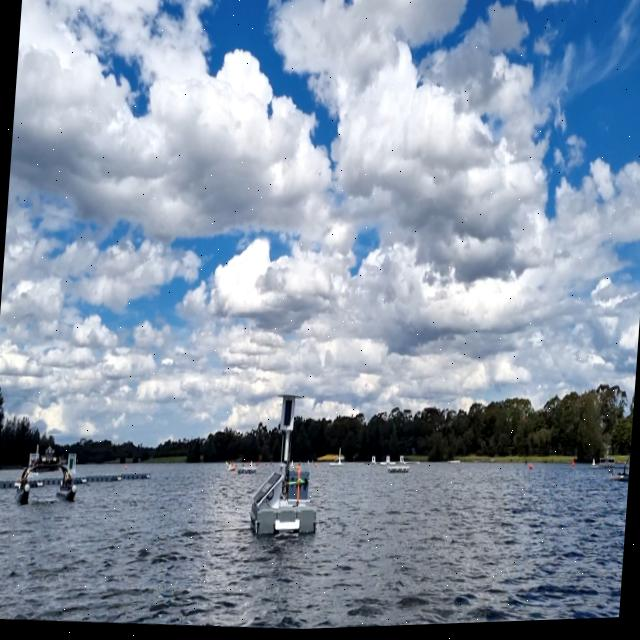led: (281, 398, 294, 432)
